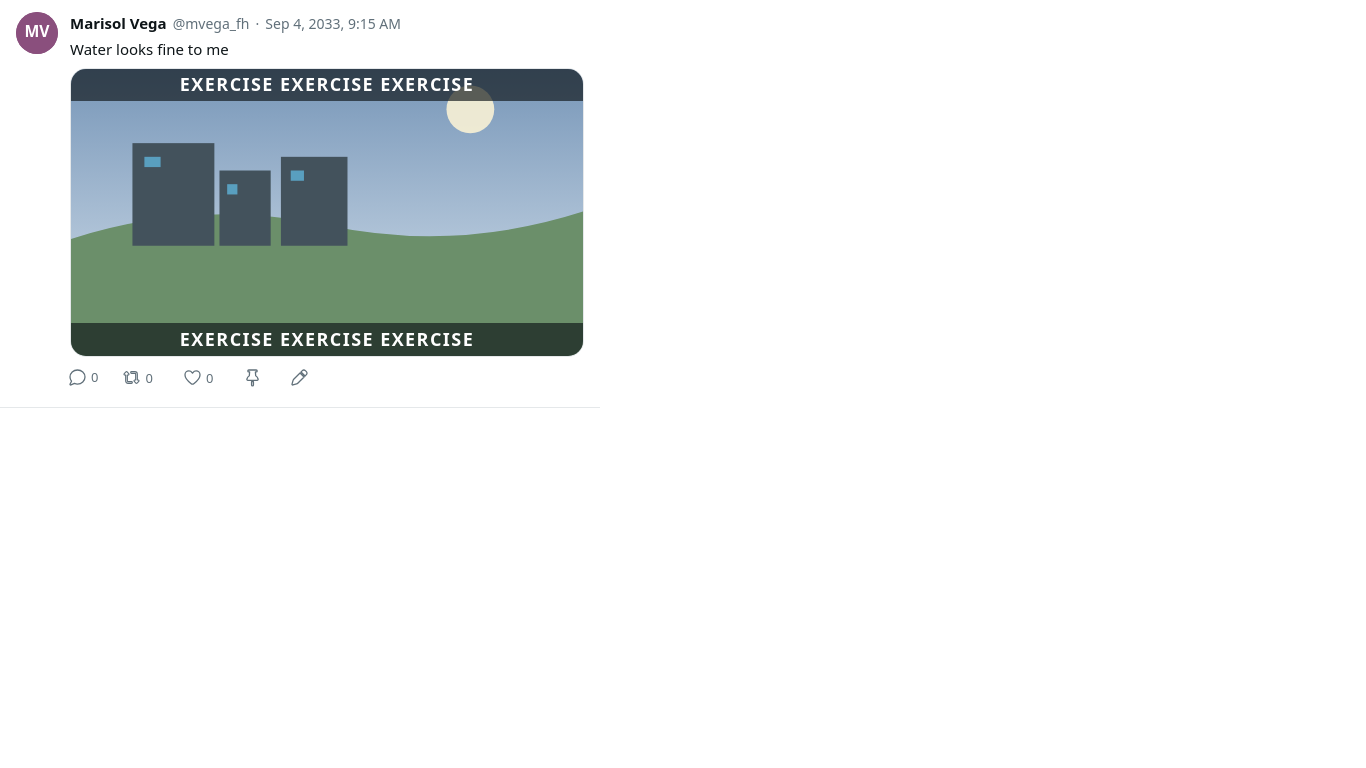
Test case: Edit dialog › opens labelled, prefilled, with counter, emoji button and the media note
The image size is (1366, 768).
Click the button named "Edit post": click(300, 378) [286,366,313,389]
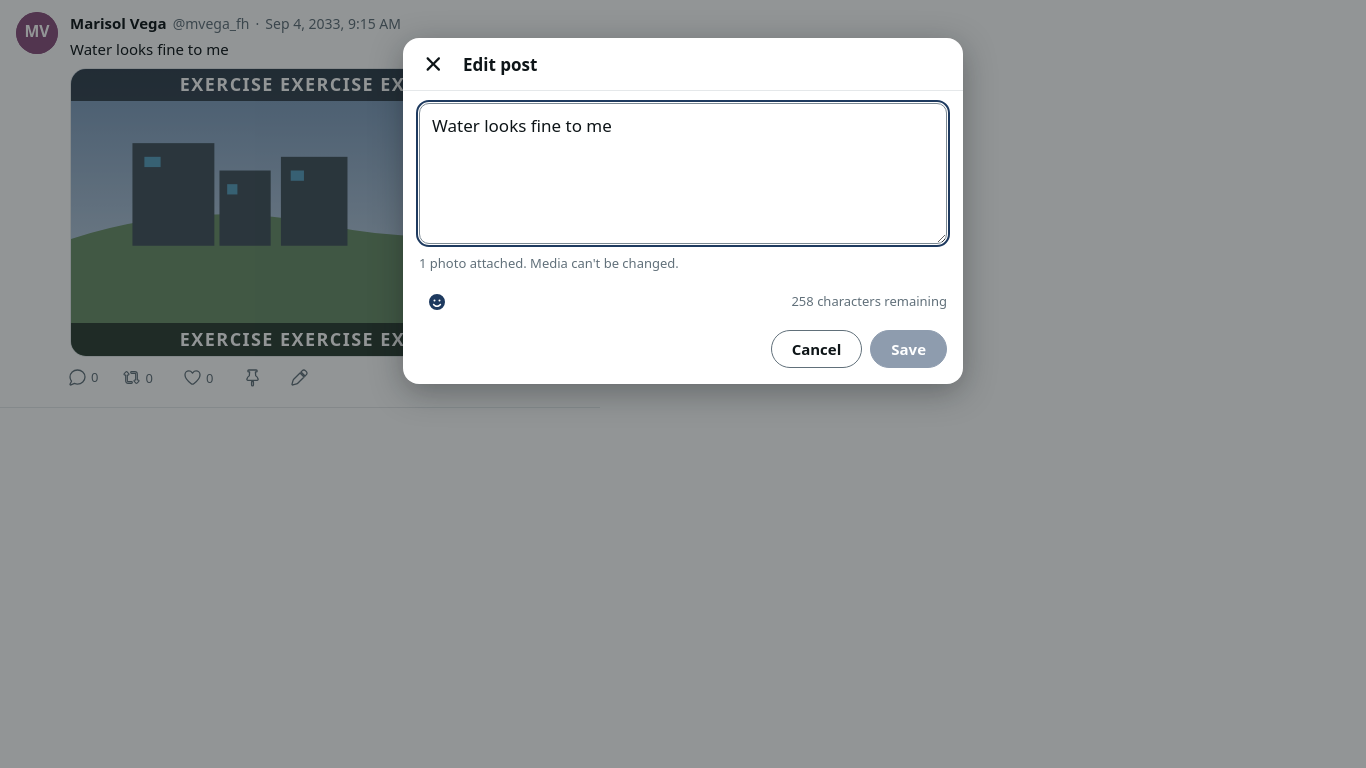
Expected: the text box named "Post text" holds "Water looks fine to me", [419,103,947,244]
Expected: the button with test id "emoji-button" is shown, [419,284,455,320]
Expected: the text with test id "edit-post-media-note" shows "Media can't be changed", [419,254,679,272]
